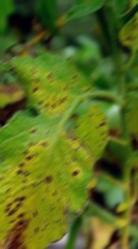Tomato Septoria leaf spot: (0, 56, 104, 249)
